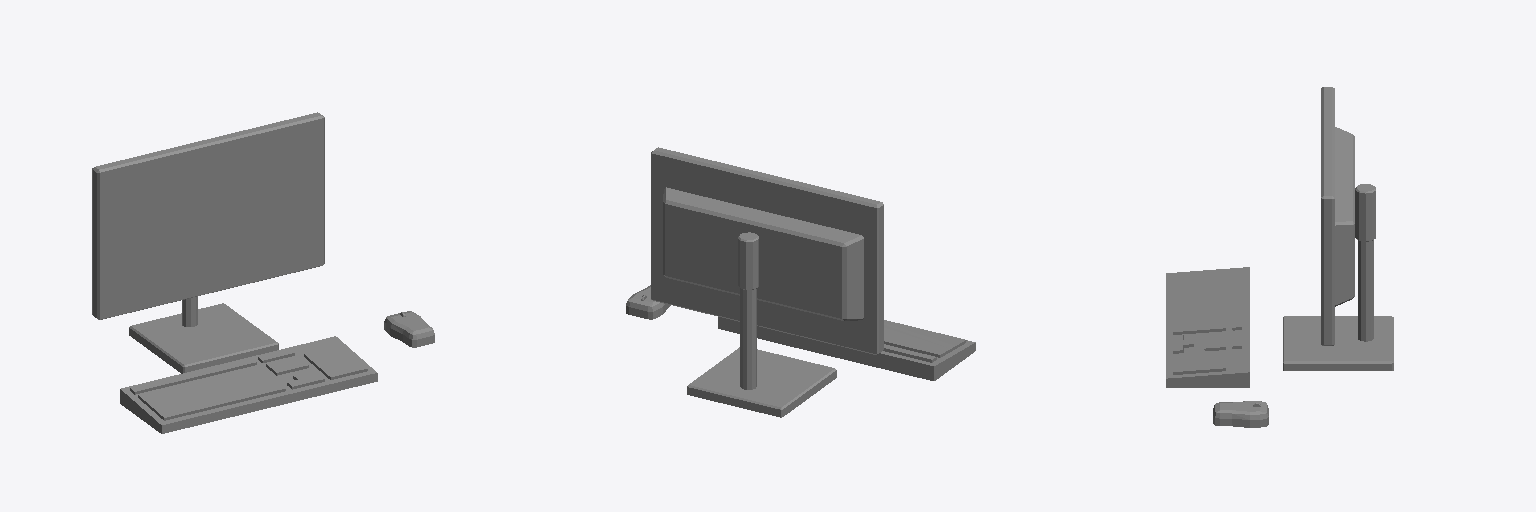
The picture shows the model from 3 angles: view 1: azimuth 30°, elevation 25°; view 2: azimuth 150°, elevation 25°; view 3: azimuth 270°, elevation 25°; orthographic projection.
Visible parts, largest first — view 1: Computer_Low, Key_Board_Low, Base_Low, Mouse_Low; view 2: Computer_Low, Base_Low, Key_Board_Low, Vert_Low, Mouse_Low; view 3: Key_Board_Low, Computer_Low, Base_Low, Vert_Low, Mouse_Low.
Boxes of the visible parts, <box> form: Computer_Low: <box>92,112,324,319</box>; Key_Board_Low: <box>120,336,377,433</box>; Base_Low: <box>129,303,278,373</box>; Mouse_Low: <box>384,311,434,347</box>; Computer_Low: <box>651,147,883,354</box>; Base_Low: <box>687,347,836,417</box>; Key_Board_Low: <box>718,317,975,380</box>; Vert_Low: <box>738,232,758,389</box>; Mouse_Low: <box>626,285,670,319</box>; Key_Board_Low: <box>1166,267,1249,387</box>; Computer_Low: <box>1321,87,1354,345</box>; Base_Low: <box>1283,316,1393,370</box>; Vert_Low: <box>1355,184,1375,341</box>; Mouse_Low: <box>1213,401,1268,427</box>.
Bounding box in the file's own units: 0.02 × 0.0131 × 0.013.